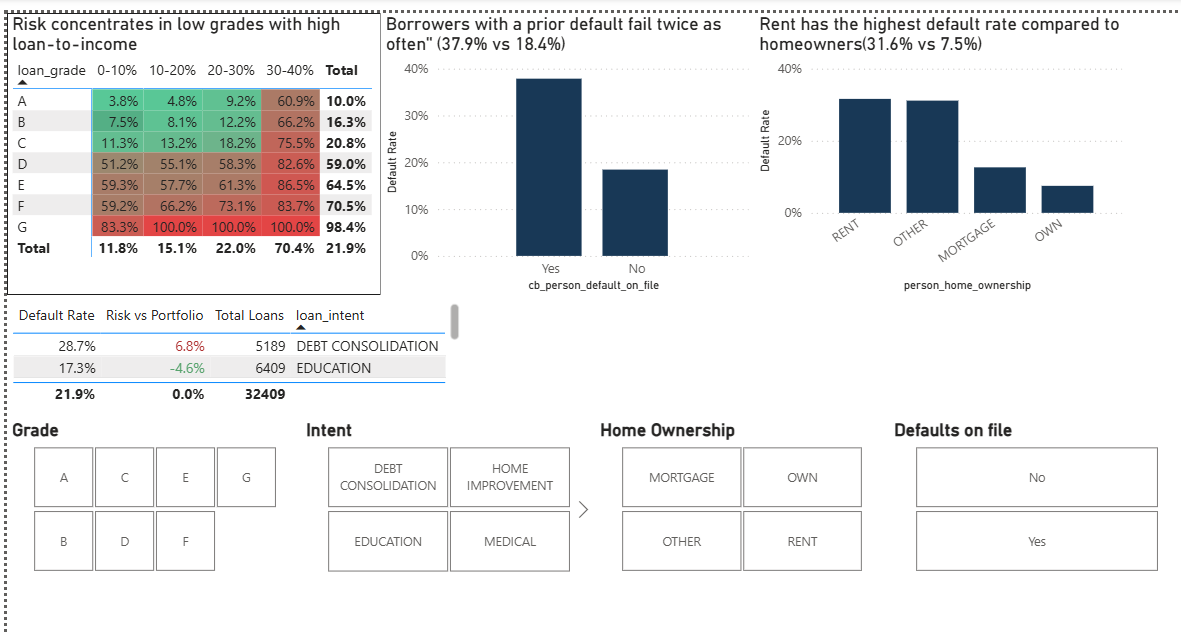

What the dashboard file says about the page in this screenshot:
{"tool":"powerbi","page":{"name":"Risk Drivers","canvas":[1280,720],"ordinal":1},"visuals":[{"type":"pivotTable","title":"Risk concentrates in low grades with high loan-to-income","fields":{"Rows":["Loans.loan_grade"],"Columns":["Loans.loan_to_income_band"],"Values":["_Measures.Default Rate"]},"box":[0,0,355.7,268.6],"z":0},{"type":"clusteredColumnChart","title":"Borrowers with a prior default fail twice as often\" (37.9% vs 18.4%)","fields":{"Y":["_Measures.Default Rate"],"Category":["Loans.cb_person_default_on_file"]},"box":[355.7,0,355.7,270],"z":1000},{"type":"clusteredColumnChart","title":"Rent has the highest default rate compared to homeowners(31.6% vs 7.5%)","fields":{"Category":["Loans.person_home_ownership"],"Y":["_Measures.Default Rate"]},"box":[711.4,0,355.7,270],"z":2000},{"type":"tableEx","fields":{"Values":["_Measures.Default Rate","_Measures.Risk vs Portfolio","_Measures.Total Loans","Loans.loan_intent"]},"box":[0,271.4,435.7,105.7],"z":3000},{"type":"slicer","title":"Grade","fields":{"Values":["Loans.loan_grade"]},"box":[0,387.5,280,151],"z":3001},{"type":"slicer","title":"Intent","fields":{"Values":["Loans.loan_intent"]},"box":[280,387.1,280,151.4],"z":3002},{"type":"slicer","title":"Home Ownership","fields":{"Values":["Loans.person_home_ownership"]},"box":[560,387,278,151],"z":3003},{"type":"slicer","title":"Defaults on file","fields":{"Values":["Loans.cb_person_default_on_file"]},"box":[840,387,280,151],"z":3004}]}

Visuals, with their boxes on the page's 1280x720 design canvas (x1, y1, x2, y2). These are canvas units, not pixel positions in the 1181x634 screenshot, which may show the page scaled, cropped or inside an application window:
"Risk concentrates in low grades with high loan-to-income" pivotTable: box=[0, 0, 356, 269]
"Borrowers with a prior default fail twice as often" (37.9% vs 18.4%)" clusteredColumnChart: box=[356, 0, 711, 270]
"Rent has the highest default rate compared to homeowners(31.6% vs 7.5%)" clusteredColumnChart: box=[711, 0, 1067, 270]
tableEx - _Measures.Default Rate x _Measures.Risk vs Portfolio: box=[0, 271, 436, 377]
"Grade" slicer: box=[0, 388, 280, 538]
"Intent" slicer: box=[280, 387, 560, 538]
"Home Ownership" slicer: box=[560, 387, 838, 538]
"Defaults on file" slicer: box=[840, 387, 1120, 538]
